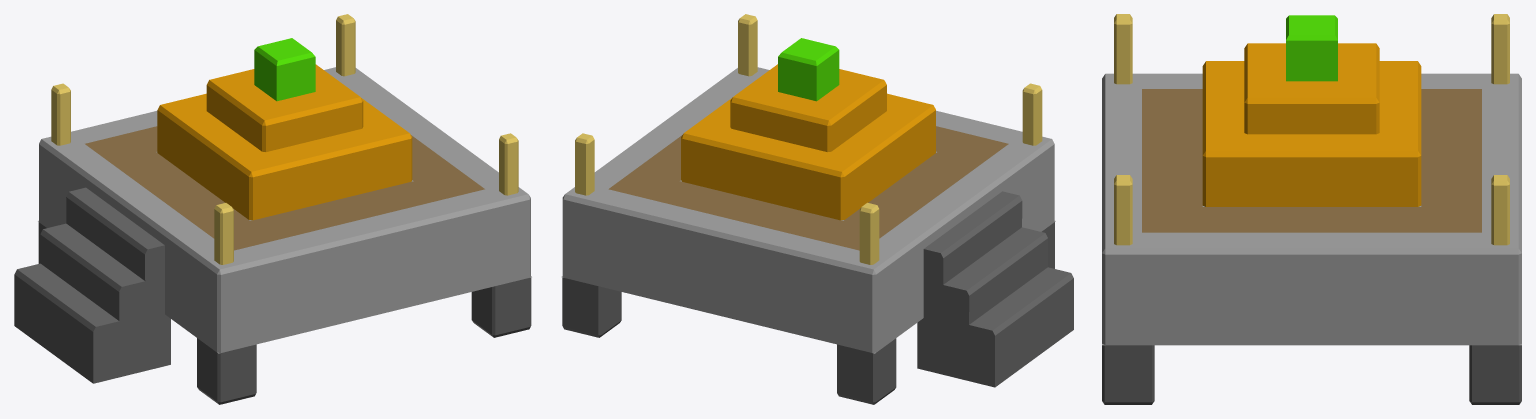
File: Shrine.fbx
The picture shows the model from 3 angles, left to right: view 1: azimuth 30°, elevation 25°; view 2: azimuth 150°, elevation 25°; view 3: azimuth 270°, elevation 25°; orthographic projection. The views are drawn at different scales.
Parts seen in each view (by area): view 1: Cube; view 2: Cube; view 3: Cube.
Boxes of the visible parts, box(x1,y1,x2,y2) form: Cube: box(14, 14, 531, 404); Cube: box(561, 14, 1073, 404); Cube: box(1102, 14, 1521, 404).
Bounding box in the file's own units: 312 × 195 × 254.
3 materials, 1 textured.
